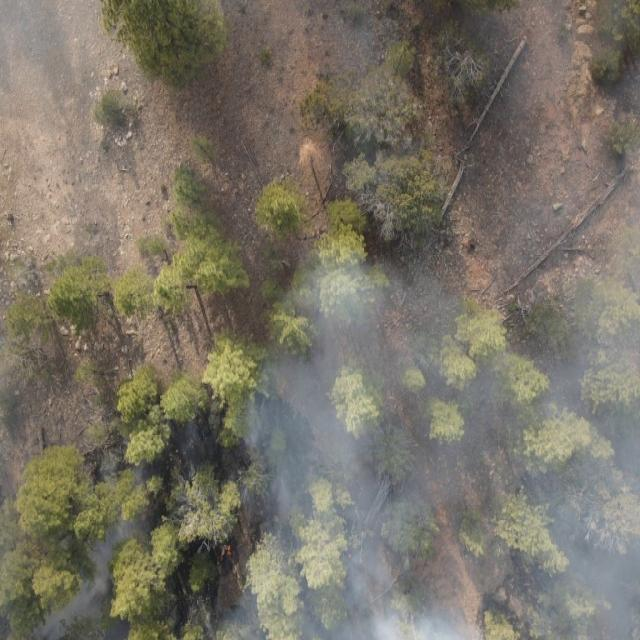fire: (222, 544, 235, 561)
smoke: (252, 251, 640, 640), (337, 0, 640, 250), (104, 402, 252, 640), (0, 0, 131, 232), (32, 605, 102, 640), (70, 534, 102, 605)
